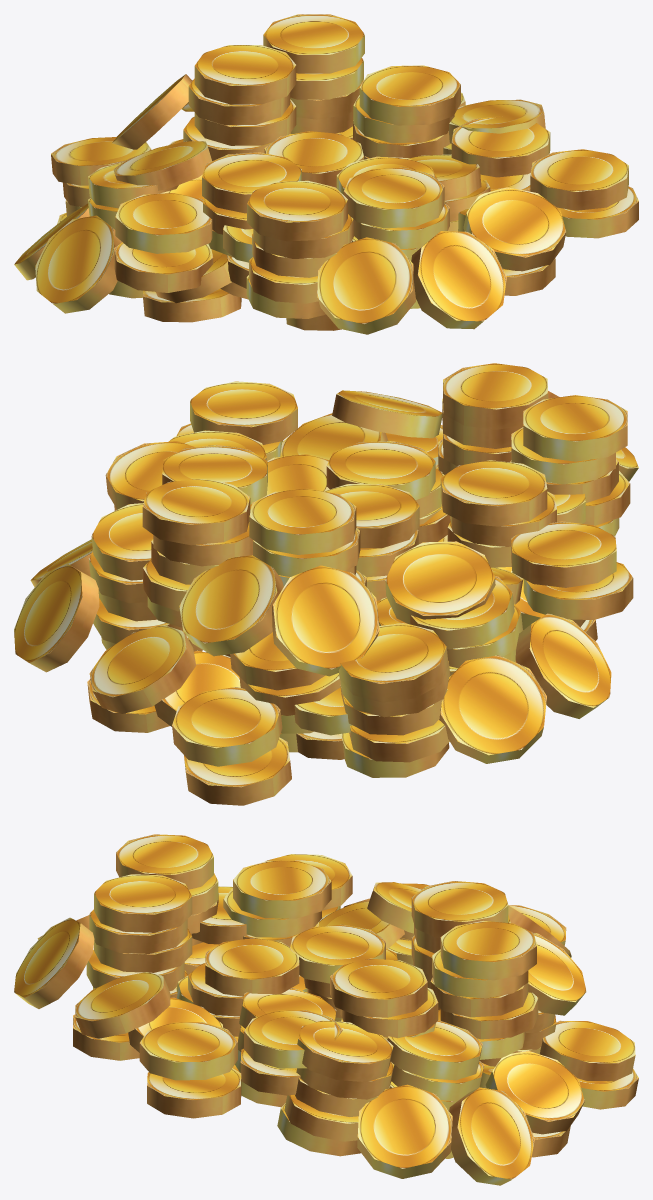
Rendered from coin8.obj.
3 views of the same model, one above another, from view 1: azimuth 30°, elevation 25°; view 2: azimuth 150°, elevation 25°; view 3: azimuth 270°, elevation 25° (orthographic). The views are drawn at different scales.
Size of the model in its own units: 7.83 by 2.97 by 8.55.
